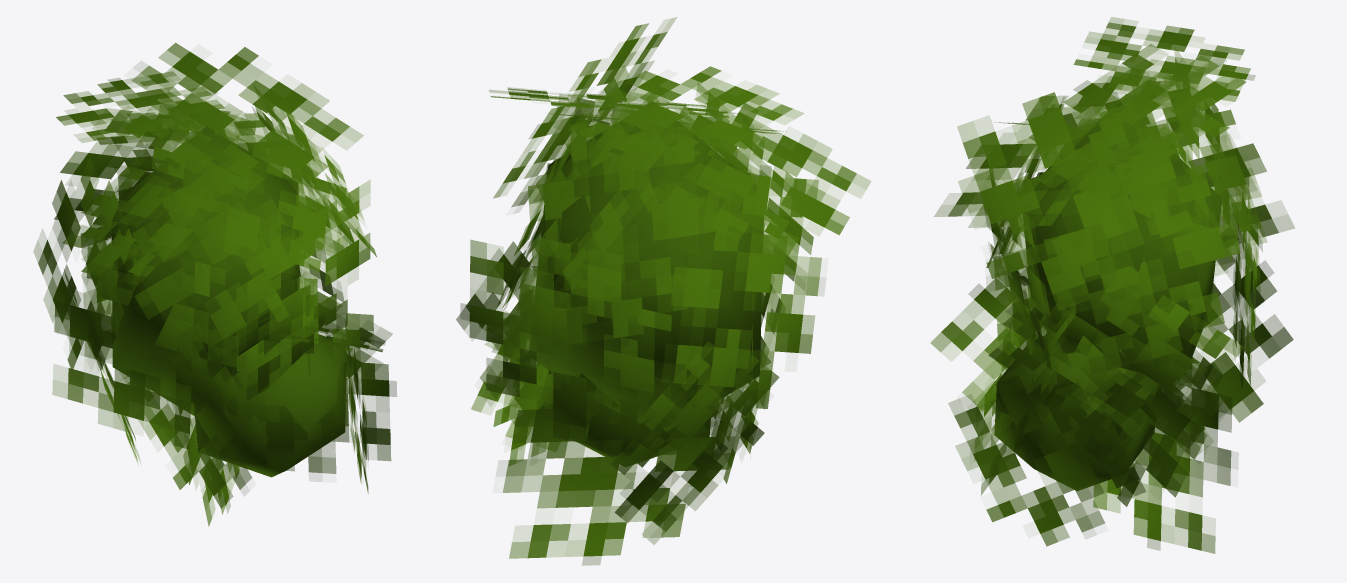
File: shrub_tall.glb
The picture shows the model from 3 angles, left to right: view 1: azimuth 30°, elevation 25°; view 2: azimuth 150°, elevation 25°; view 3: azimuth 270°, elevation 25°; orthographic projection. The views are drawn at different scales.
Parts seen in each view (by area): view 1: shrub_tall_Leaf_Dark, shrub_tall_Core_Dark; view 2: shrub_tall_Leaf_Dark, shrub_tall_Core_Dark; view 3: shrub_tall_Leaf_Dark, shrub_tall_Core_Dark.
Part boxes in pixels (<box>): shrub_tall_Leaf_Dark: <box>33,43,396,526</box>; shrub_tall_Core_Dark: <box>111,126,346,477</box>; shrub_tall_Leaf_Dark: <box>456,17,871,565</box>; shrub_tall_Core_Dark: <box>529,101,763,466</box>; shrub_tall_Leaf_Dark: <box>931,17,1294,553</box>; shrub_tall_Core_Dark: <box>994,102,1222,490</box>.
Size of the model in its own units: 1.88 by 2.56 by 1.97.
2 materials, 1 textured.
